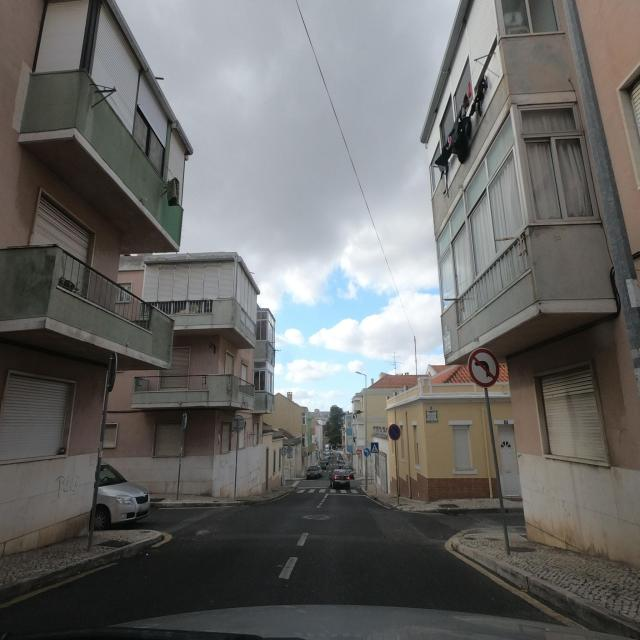forb_stopping: (388, 424, 401, 441)
